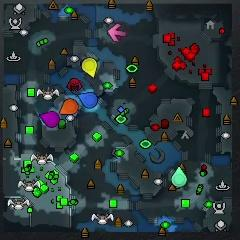p1: (78, 91, 97, 109)
p2: (171, 167, 187, 186)
p3: (40, 111, 59, 128)
p4: (81, 58, 97, 77)
p5: (60, 98, 77, 114)
x1: (109, 23, 126, 41)
